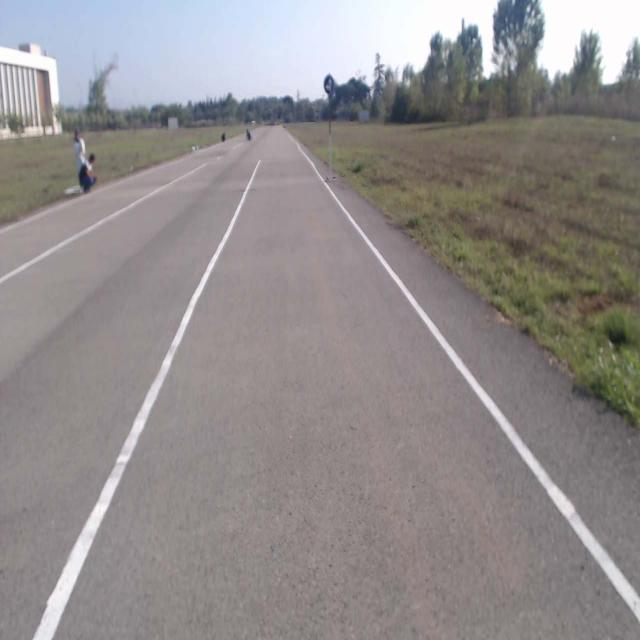ilerisol: (324, 74, 334, 94)
